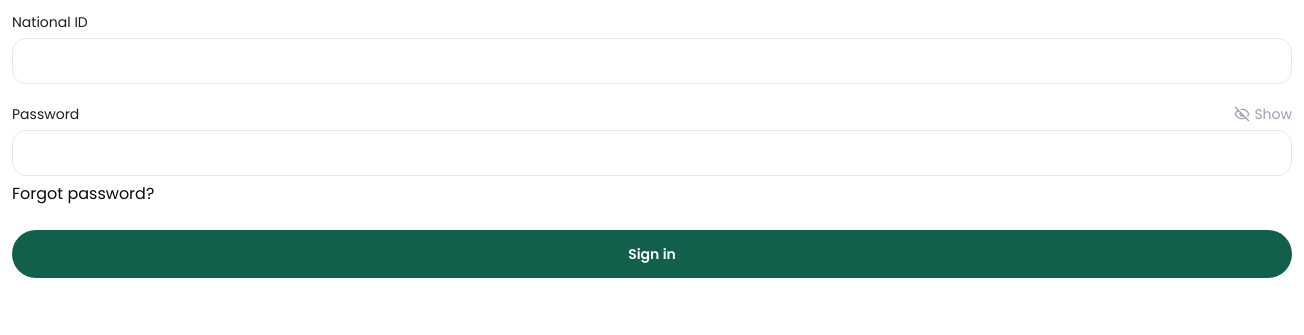
Test: PatientSignInForm › shows an invalid-credentials message on a 401
The width and height of the screenshot is (1304, 335).
Step 1. Type "12345678901234" into the field labelled "National ID" → (652, 61), box [12,38,1292,84]
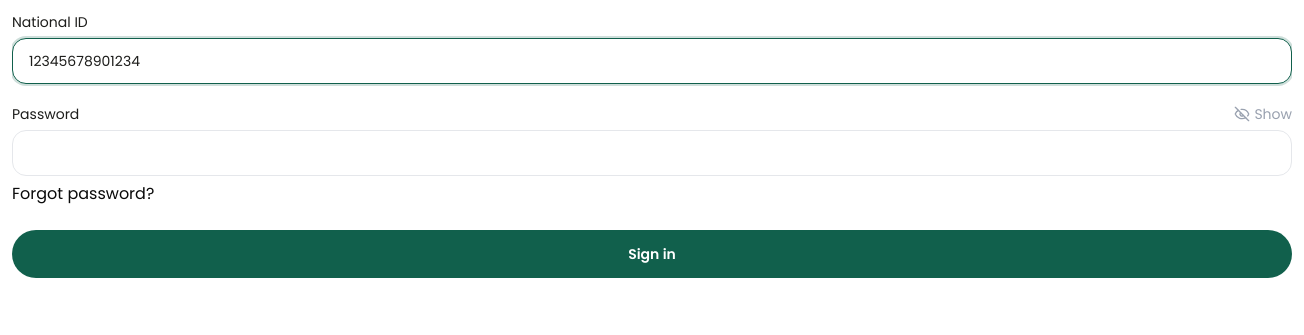
Step 2. Type "Abcdef1!" into the password field labelled "Password" → (652, 153), box [12,130,1292,176]
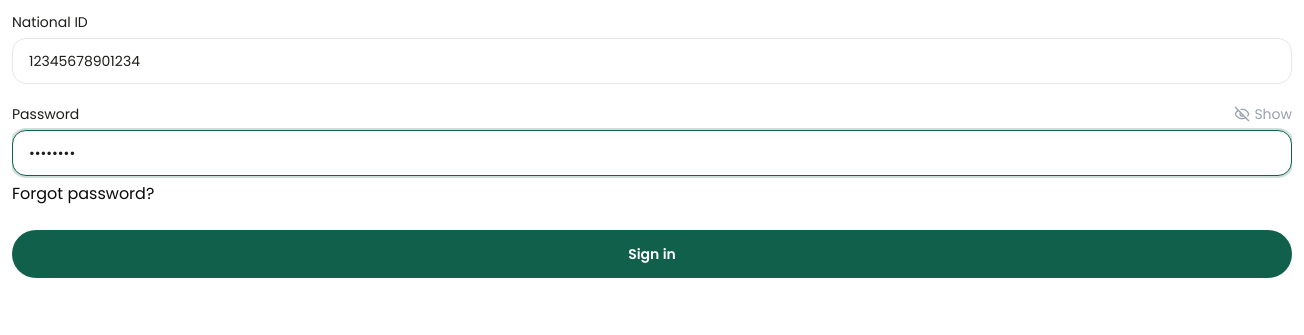
Step 3. Click the button "Sign in" → (652, 254), box [12,230,1292,278]
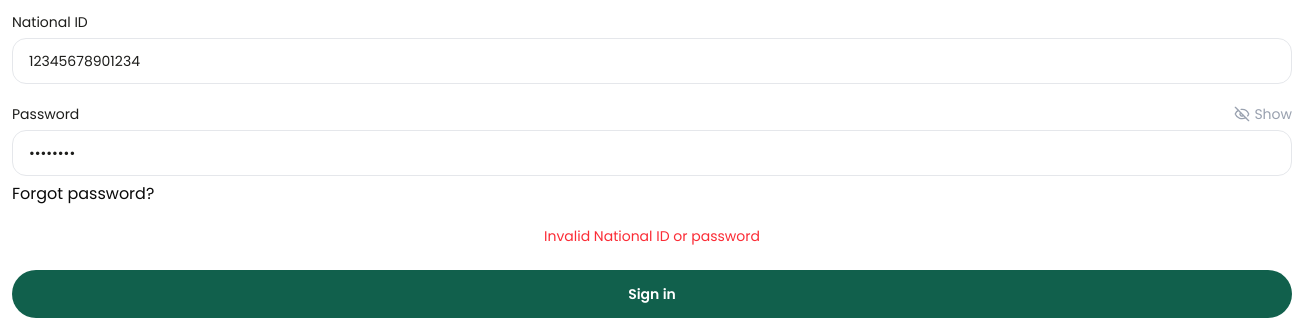
Result: the text "Invalid National ID or password" is shown at [544,226,760,246]
